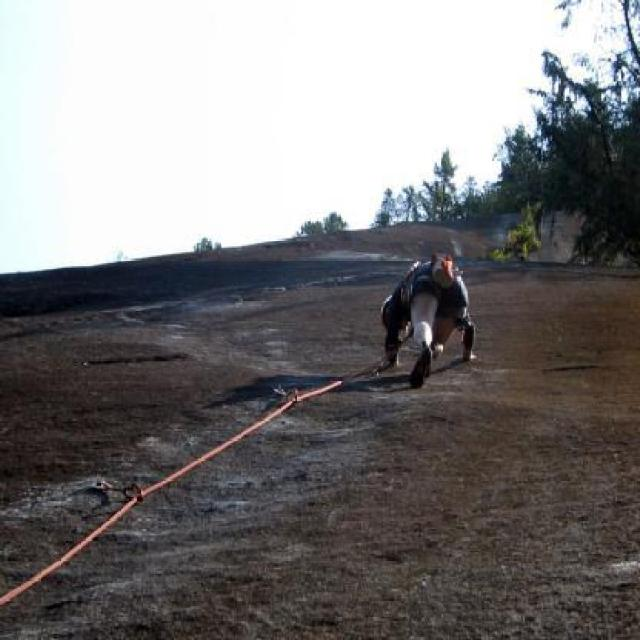Person: (382, 245, 469, 390)
